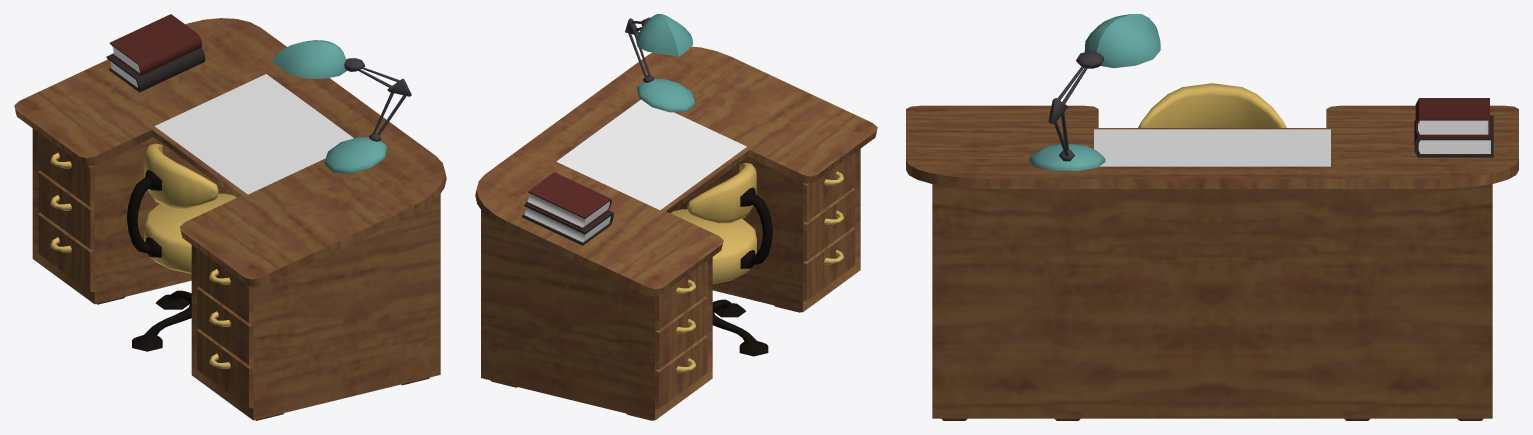
File: CI_112_desk.glb
3 views of the same model, side by side, from view 1: azimuth 30°, elevation 25°; view 2: azimuth 150°, elevation 25°; view 3: azimuth 270°, elevation 25° (orthographic). The views are drawn at different scales.
Visible parts, largest first — view 1: desk, paper, lamp, chair, books, chair_top, book bottom, chair_back; view 2: desk, paper, lamp, chair, books, chair_top, book bottom, chair_back; view 3: desk, paper, lamp, chair_top, books, book bottom.
Part boxes in pixels (x1=…): desk: x1=14, y1=18, x2=446, y2=420; paper: x1=155, y1=74, x2=353, y2=194; lamp: x1=271, y1=40, x2=411, y2=173; chair: x1=132, y1=193, x2=236, y2=351; books: x1=110, y1=14, x2=201, y2=75; chair_top: x1=144, y1=143, x2=218, y2=208; book bottom: x1=106, y1=47, x2=205, y2=92; chair_back: x1=126, y1=170, x2=161, y2=257; desk: x1=475, y1=46, x2=877, y2=420; paper: x1=556, y1=99, x2=746, y2=209; lamp: x1=625, y1=14, x2=695, y2=112; chair: x1=671, y1=209, x2=768, y2=356; books: x1=526, y1=172, x2=611, y2=229; chair_top: x1=687, y1=162, x2=756, y2=223; book bottom: x1=522, y1=203, x2=613, y2=245; chair_back: x1=740, y1=187, x2=772, y2=268; desk: x1=906, y1=105, x2=1518, y2=420; paper: x1=1094, y1=129, x2=1330, y2=166; lamp: x1=1029, y1=14, x2=1160, y2=170; chair_top: x1=1138, y1=83, x2=1286, y2=127; books: x1=1415, y1=98, x2=1489, y2=137; book bottom: x1=1414, y1=115, x2=1493, y2=157.
Bounding box in the file's own units: 1.46 × 1.87 × 2.75.
Materials: 9 (1 with a texture image).
